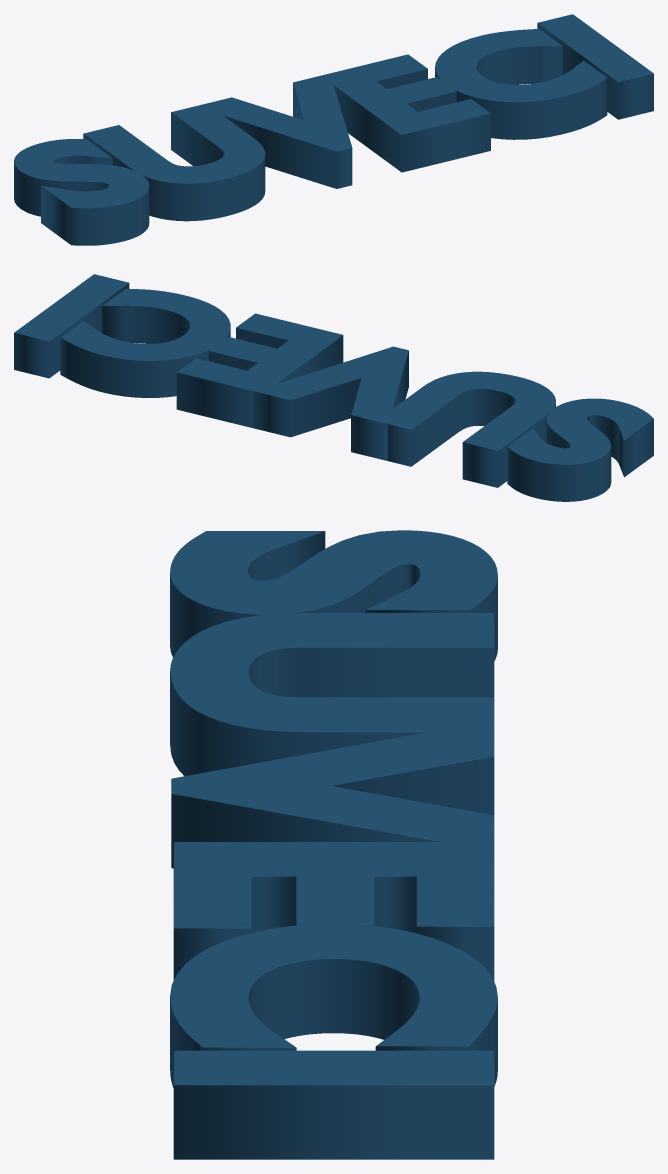
File: suveci.glb
3 renders of one model, top to bottom at view 1: azimuth 30°, elevation 25°; view 2: azimuth 150°, elevation 25°; view 3: azimuth 270°, elevation 25°, orthographic. The views are drawn at different scales.
Parts seen in each view (by area): view 1: Text; view 2: Text; view 3: Text.
Boxes of the visible parts, bbox=[...] form: Text: bbox=[14, 14, 653, 245]; Text: bbox=[14, 274, 653, 501]; Text: bbox=[170, 530, 497, 1159].
Bounding box in the file's own units: 3.21 × 0.202 × 0.8021.
